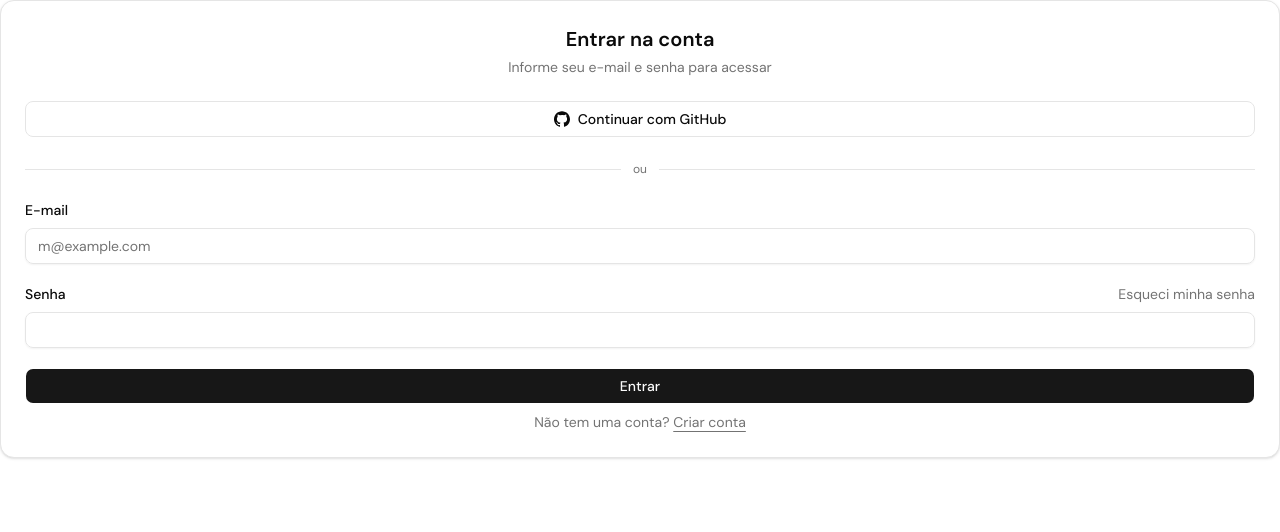
LoginForm › validação client-side (Zod) › mostra mensagens inline quando os campos obrigatórios estão vazios
Click the button "Entrar".
click(640, 386)  # box [25,368,1255,404]
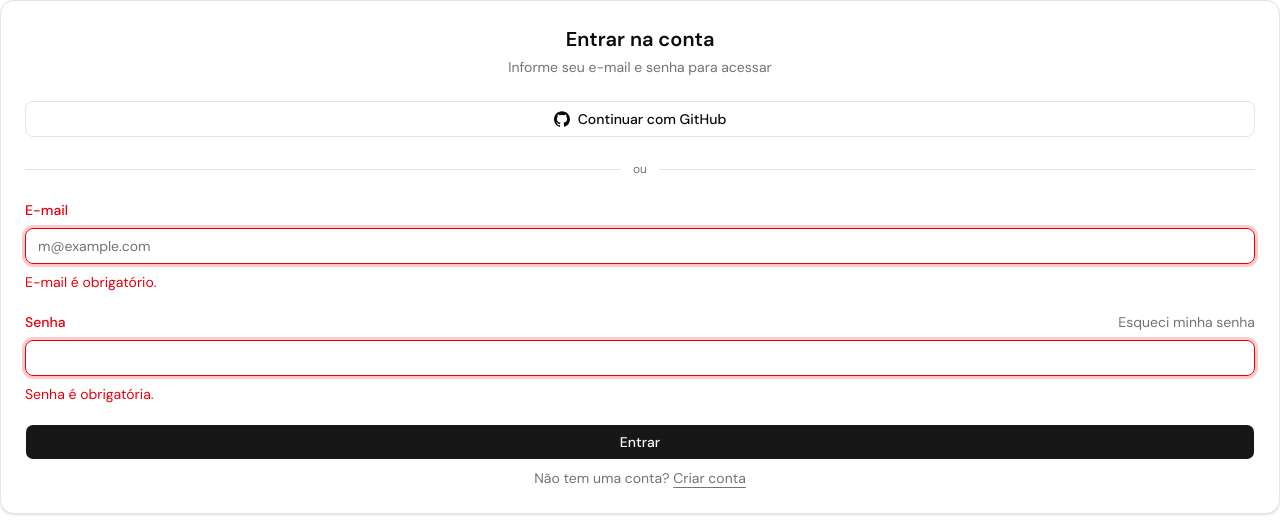
Check: the text "E-mail é obrigatório." is shown, box [25,273,156,291]
Check: the text "Senha é obrigatória." is shown, box [25,385,154,403]
